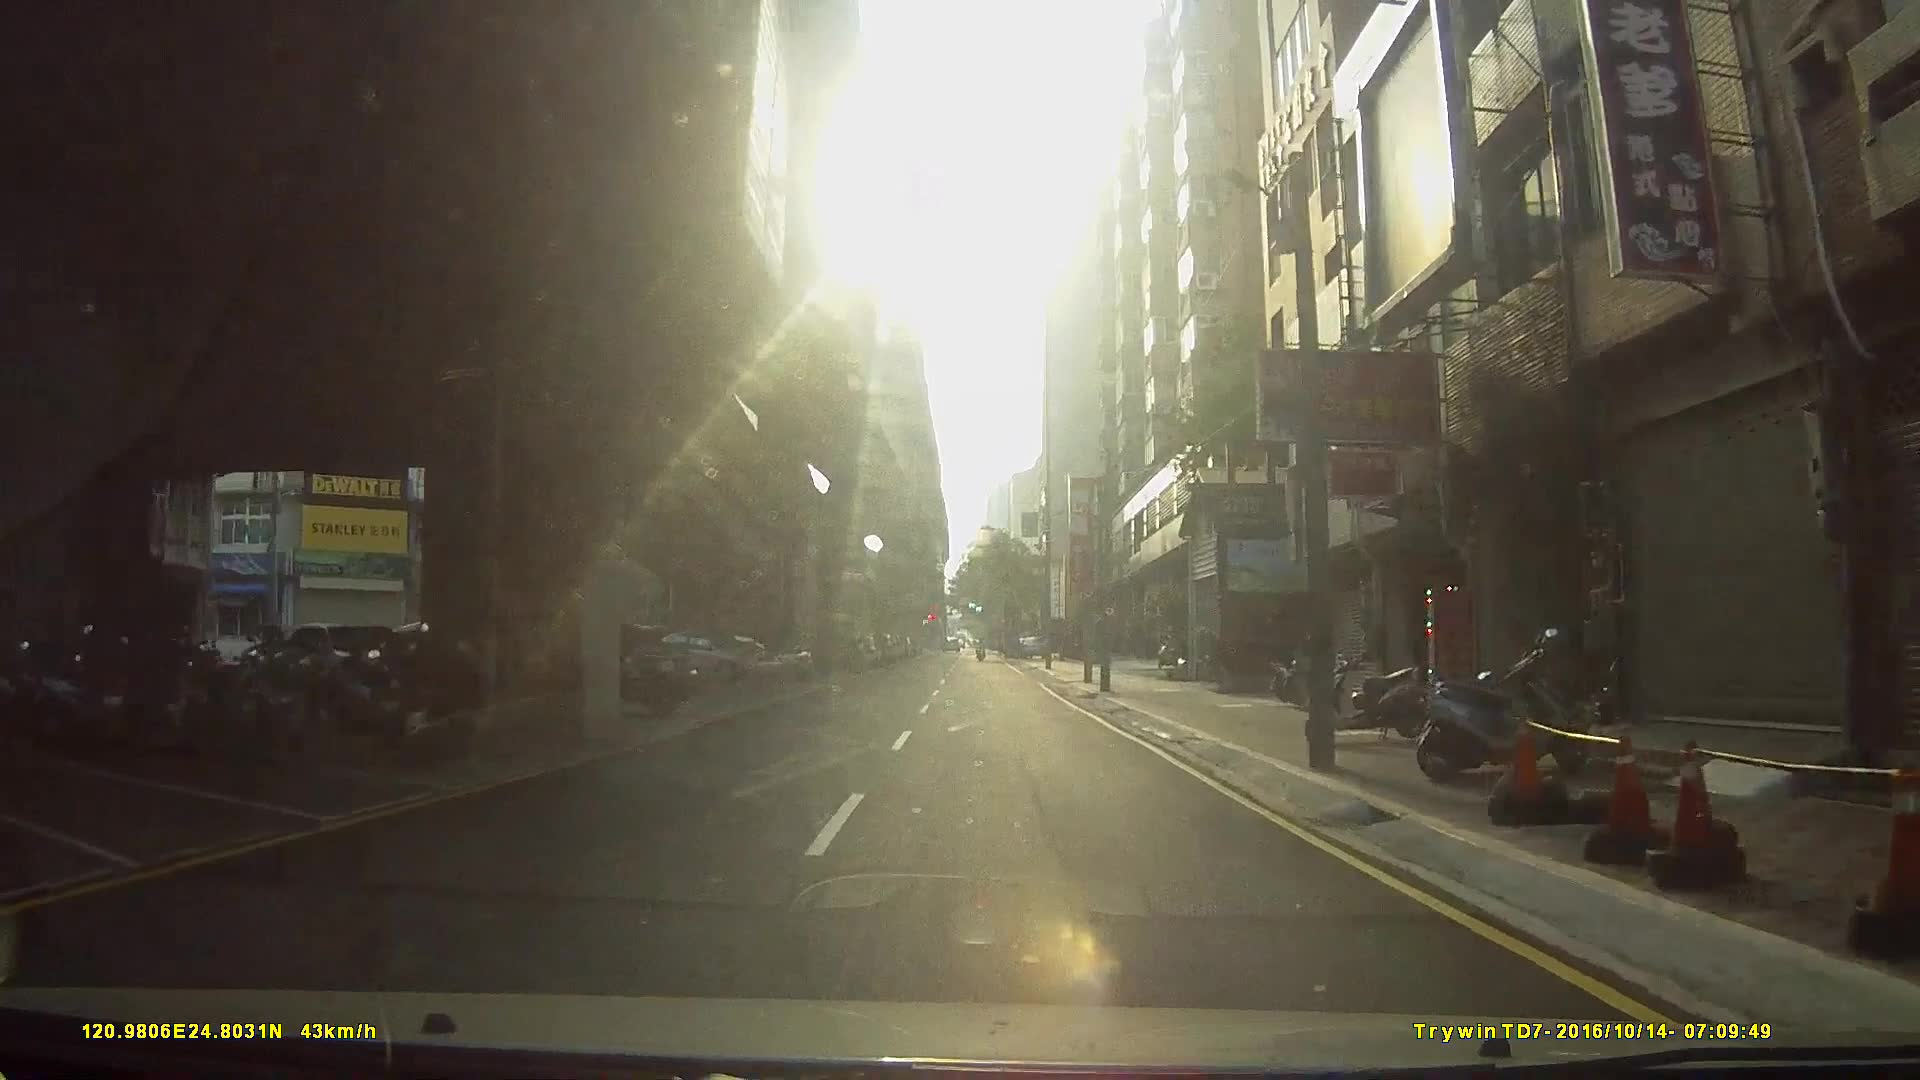vehicle: (525, 618, 699, 713), (644, 626, 785, 679)
